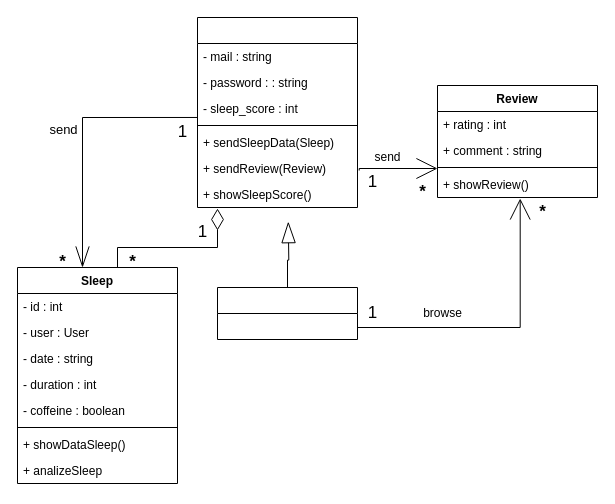
The diagram is 615 pixels wide and 504 high, and some of its shapes have lost their labels. The shapes that lost their labels are listed below. From the top down, each one's box as (x1, y1, x2, y2) in pixels, then its label:
(196, 16, 358, 208): User
(216, 286, 358, 340): Developer
